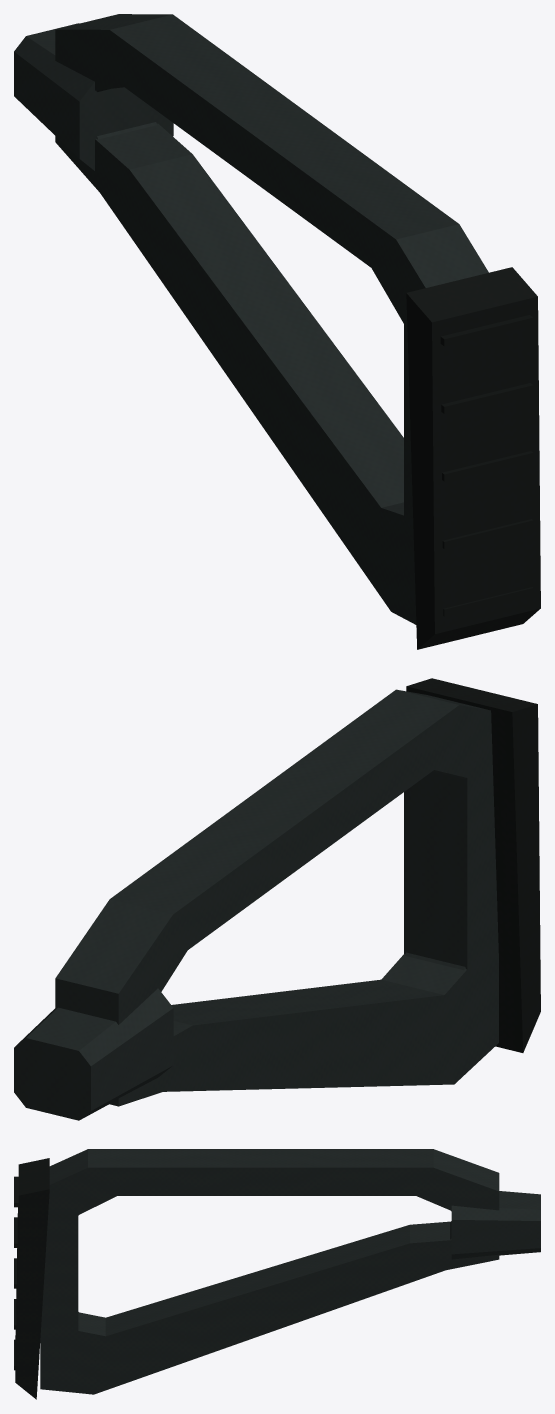
File: g36_stock.glb
The picture shows the model from 3 angles, top to bottom: view 1: azimuth 30°, elevation 25°; view 2: azimuth 150°, elevation 25°; view 3: azimuth 270°, elevation 25°; orthographic projection. The views are drawn at different scales.
Visible parts, largest first — view 1: stock__g36_stock_LOD0_RAID_Secondary_Original_polymer, stock__g36_stock_LOD1_RAID_Secondary_Original_polymer, stock__g36_stock_LOD0_RAID_Secondary_Original_rubber, stock__g36_stock_LOD1_RAID_Secondary_Original_rubber; view 2: stock__g36_stock_LOD0_RAID_Secondary_Original_polymer, stock__g36_stock_LOD1_RAID_Secondary_Original_polymer, stock__g36_stock_LOD1_RAID_Secondary_Original_rubber, stock__g36_stock_LOD0_RAID_Secondary_Original_rubber; view 3: stock__g36_stock_LOD0_RAID_Secondary_Original_polymer, stock__g36_stock_LOD1_RAID_Secondary_Original_polymer, stock__g36_stock_LOD0_RAID_Secondary_Original_rubber, stock__g36_stock_LOD1_RAID_Secondary_Original_rubber.
Part boxes in pixels (left/top/right/bottom): stock__g36_stock_LOD0_RAID_Secondary_Original_polymer: left=14, top=14, right=486, bottom=622; stock__g36_stock_LOD1_RAID_Secondary_Original_polymer: left=55, top=14, right=488, bottom=624; stock__g36_stock_LOD0_RAID_Secondary_Original_rubber: left=408, top=269, right=538, bottom=648; stock__g36_stock_LOD1_RAID_Secondary_Original_rubber: left=406, top=267, right=540, bottom=649; stock__g36_stock_LOD0_RAID_Secondary_Original_polymer: left=14, top=690, right=497, bottom=1120; stock__g36_stock_LOD1_RAID_Secondary_Original_polymer: left=55, top=689, right=498, bottom=1106; stock__g36_stock_LOD1_RAID_Secondary_Original_rubber: left=406, top=678, right=540, bottom=1052; stock__g36_stock_LOD0_RAID_Secondary_Original_rubber: left=409, top=679, right=536, bottom=1049; stock__g36_stock_LOD0_RAID_Secondary_Original_polymer: left=41, top=1149, right=540, bottom=1392; stock__g36_stock_LOD1_RAID_Secondary_Original_polymer: left=40, top=1149, right=499, bottom=1394; stock__g36_stock_LOD0_RAID_Secondary_Original_rubber: left=14, top=1159, right=49, bottom=1396; stock__g36_stock_LOD1_RAID_Secondary_Original_rubber: left=15, top=1158, right=49, bottom=1399.
Bounding box in the file's own units: 0.062 × 0.21 × 0.442.
2 materials, 2 textured.
